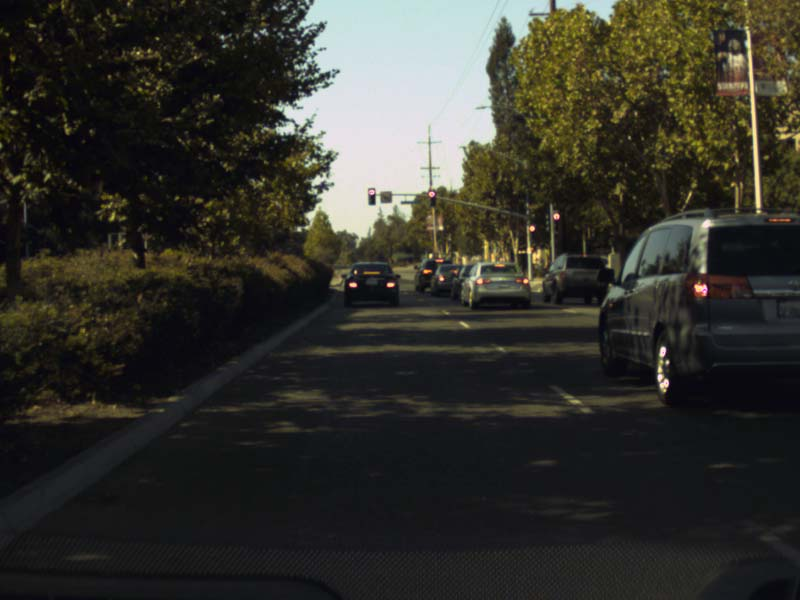Red: (553, 212, 561, 232), (367, 188, 375, 205), (529, 224, 536, 243), (428, 190, 435, 206)
